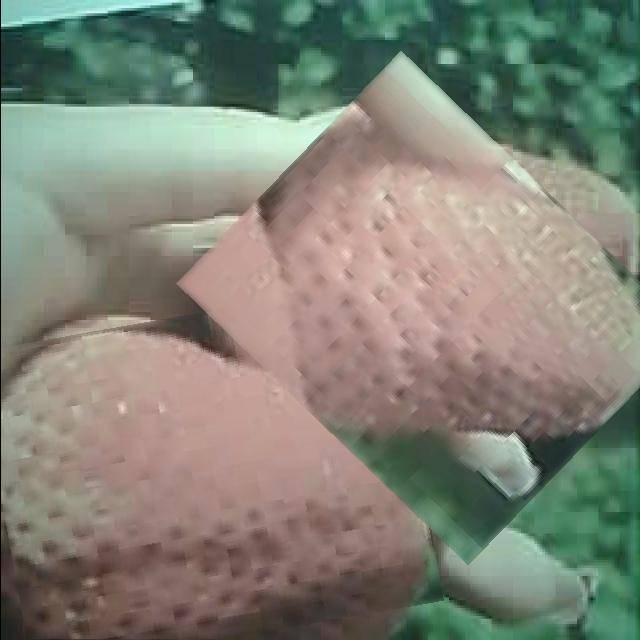strawberry: (203, 98, 640, 517), (0, 297, 431, 640)
